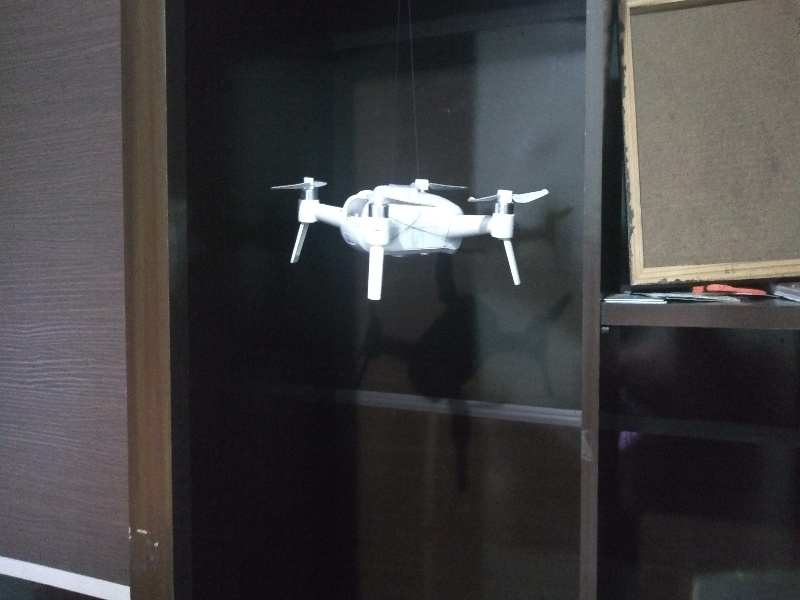drone: (269, 161, 554, 302)
